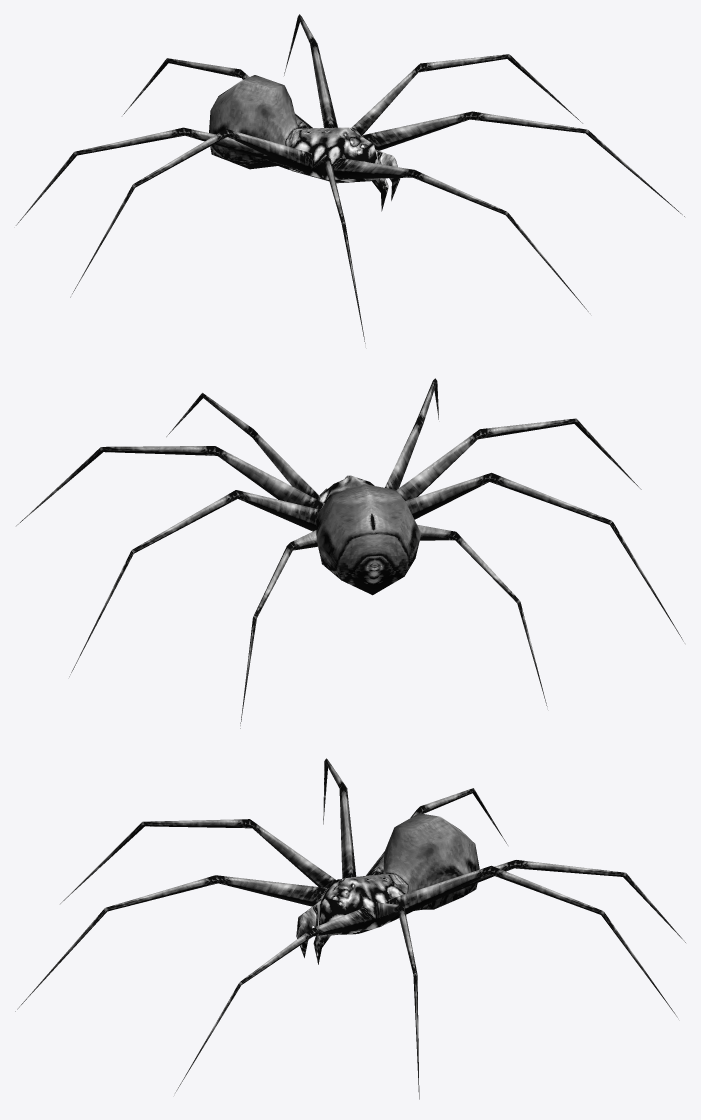
The model's file is spider.fbx.
The picture shows the model from 3 angles, top to bottom: view 1: azimuth 30°, elevation 25°; view 2: azimuth 150°, elevation 25°; view 3: azimuth 270°, elevation 25°; orthographic projection. The views are drawn at different scales.
Visible parts, largest first — view 1: spider; view 2: spider; view 3: spider.
Part boxes in pixels (x1,y1,x2,y2): spider: (16,14,684,343); spider: (16,378,683,728); spider: (15,758,685,1099).
Bounding box in the file's own units: 345 × 73.89 × 347.
Materials: 1 (1 with a texture image).
